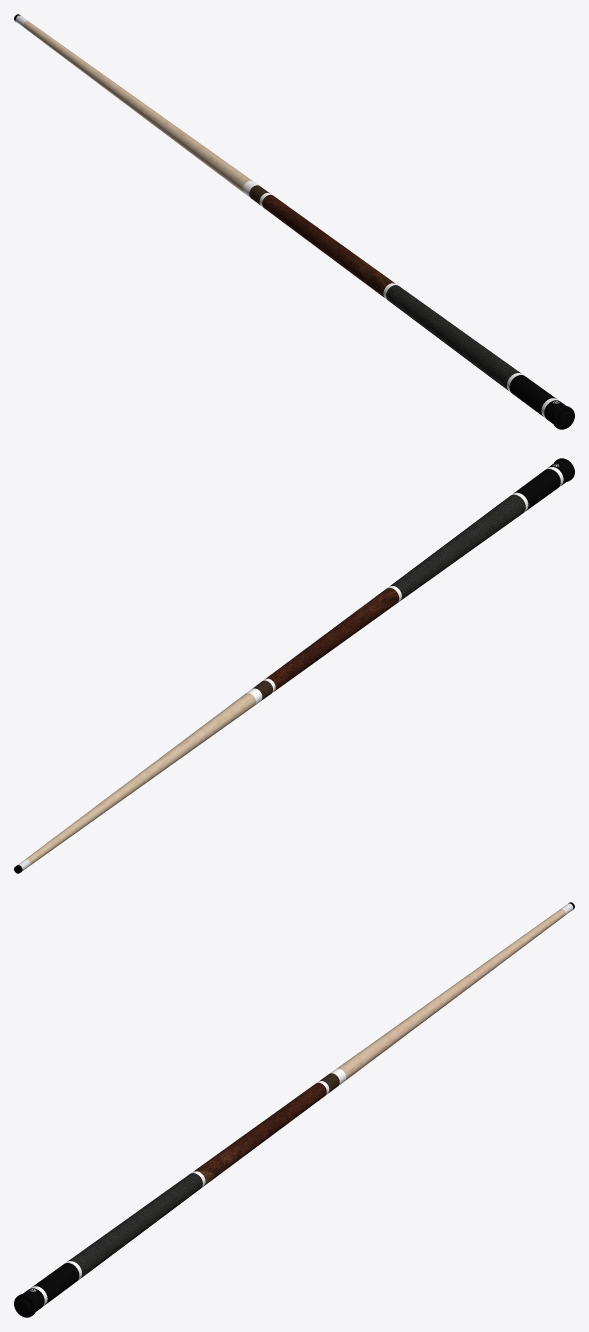
File: StandardCue_v2-transformed.glb
The picture shows the model from 3 angles, top to bottom: view 1: azimuth 30°, elevation 25°; view 2: azimuth 150°, elevation 25°; view 3: azimuth 330°, elevation 25°; orthographic projection.
Visible parts, largest first — view 1: Shaft, Handle, Forearm, Tip; view 2: Shaft, Handle, Forearm, Tip; view 3: Shaft, Handle, Forearm, Tip.
Boxes of the visible parts, x1,y1,x2,y2 form: Shaft: (23,21,252,193); Handle: (386,285,521,390); Forearm: (262,194,395,297); Tip: (14,14,574,429); Shaft: (25,693,255,865); Handle: (390,494,525,600); Forearm: (265,588,399,691); Tip: (14,458,574,873); Shaft: (336,909,565,1081); Handle: (67,1173,202,1278); Forearm: (193,1082,326,1185); Tip: (14,902,574,1317).
Bounding box in the file's own units: 28 × 28 × 1255.
Materials: 9 (4 with a texture image).
